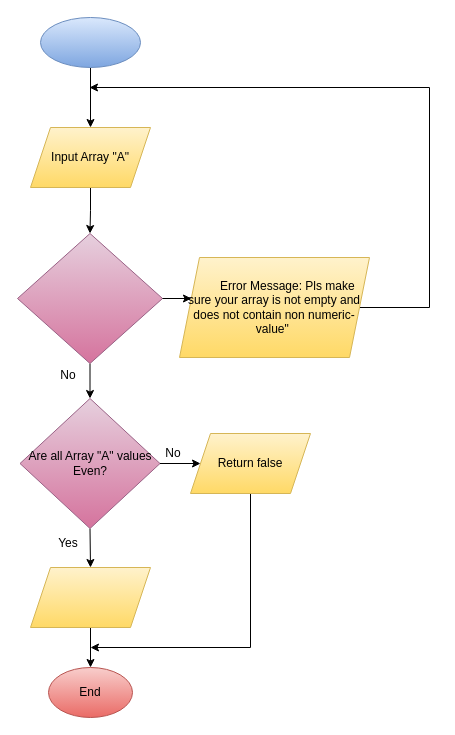
Some shapes in this 455 by 735 pixel diagram are drawn without their labels. Each missing label, with the centre of its shape:
Array "A" is empty or contains non-numeric values?: point (89, 298)
Return true: point (90, 597)
Start: point (90, 42)
